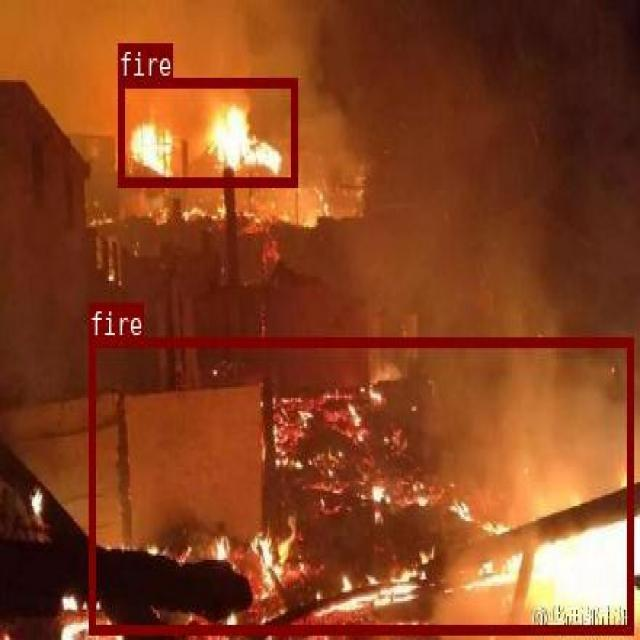fire: (88, 337, 632, 632), (118, 76, 296, 186)
